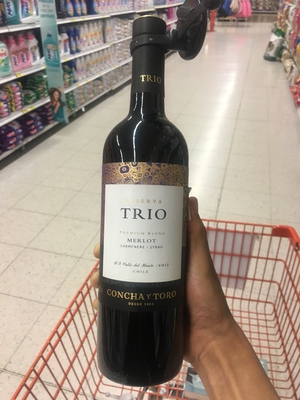trio merlot: (79, 33, 222, 400)
